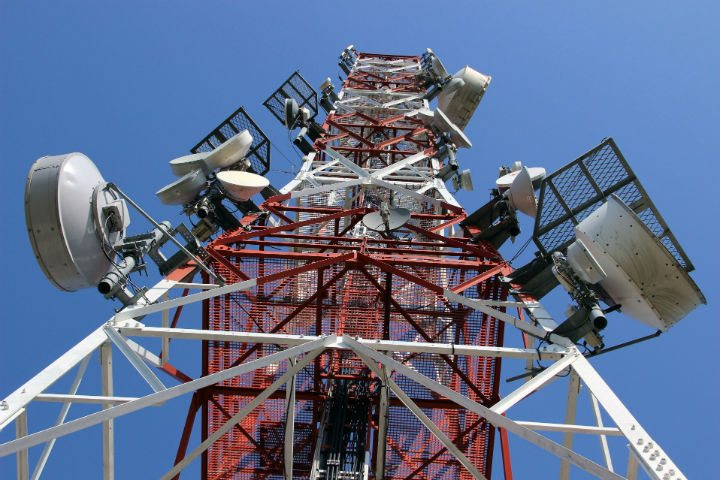ba: (578, 189, 709, 359), (25, 153, 131, 301), (431, 52, 488, 138), (210, 162, 270, 206), (153, 165, 208, 210), (502, 169, 537, 227), (197, 130, 256, 162)
